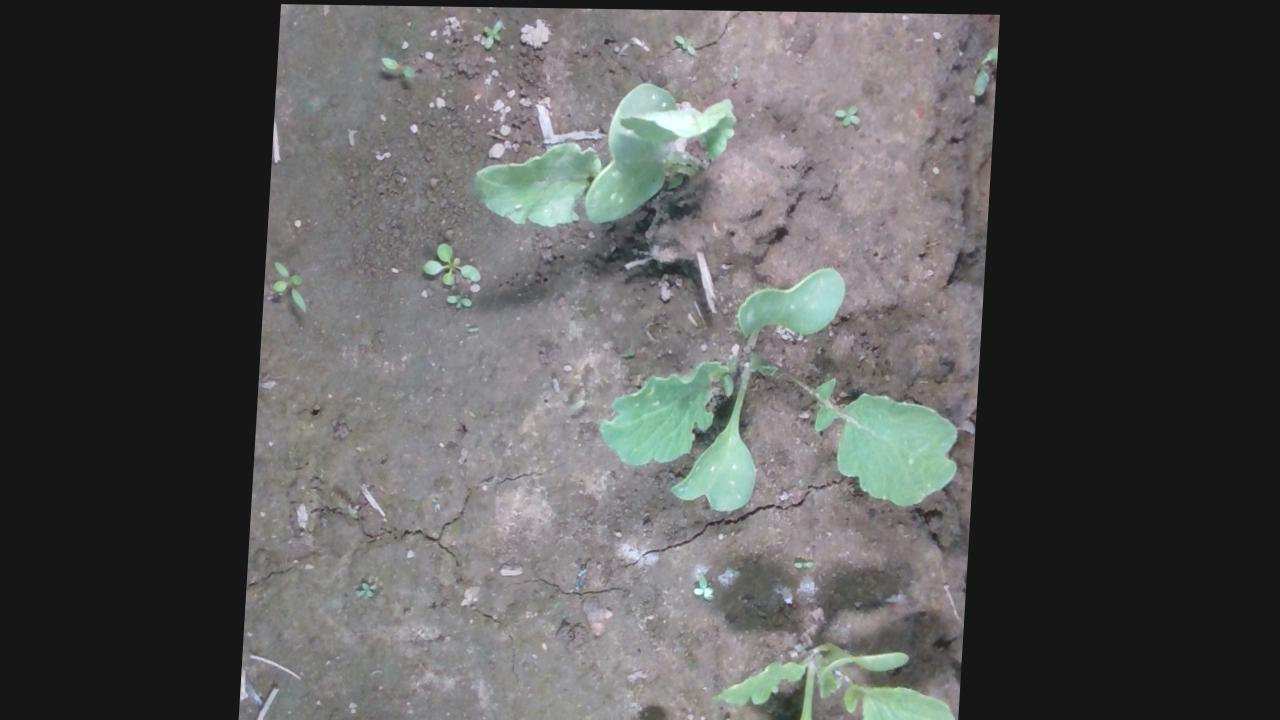weed: (424, 238, 489, 283), (273, 258, 314, 311), (381, 53, 420, 75), (699, 568, 724, 599), (481, 18, 506, 47), (836, 102, 864, 122), (449, 289, 478, 307), (675, 31, 699, 52), (362, 579, 386, 596), (800, 557, 823, 566), (722, 711, 747, 719)
